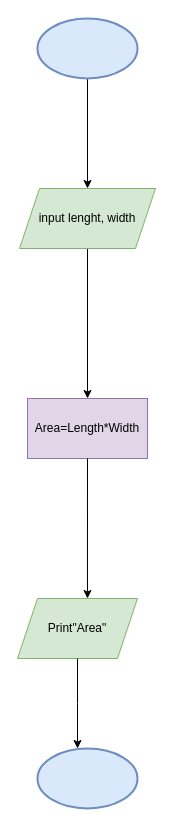
Image size: 173x826. Some labels were removed from this diagram. Here are the shapes that lost their labels. From the top down, the centre of each, then its label:
[87,48]: Start
[87,778]: End
